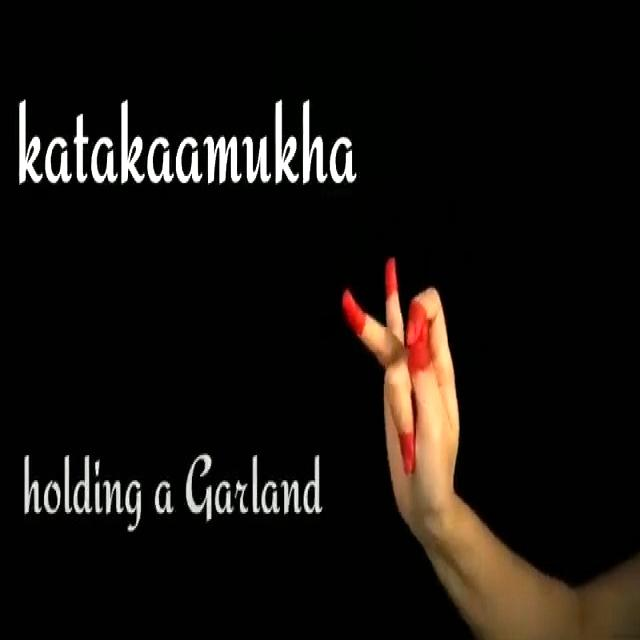Katakamukha: (329, 232, 495, 546)
text: (8, 78, 366, 222), (16, 438, 327, 542)
